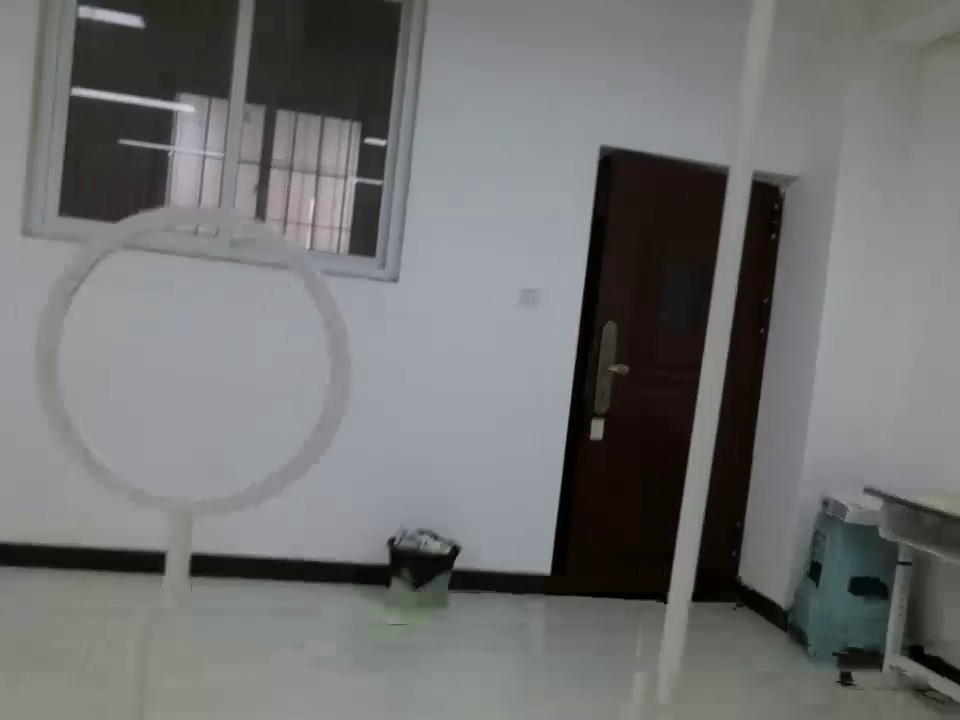quan: (24, 194, 362, 555)
